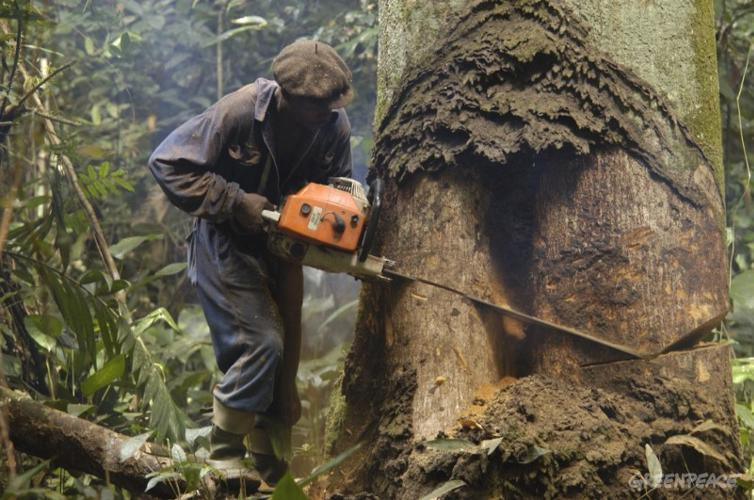person: (144, 38, 369, 494)
